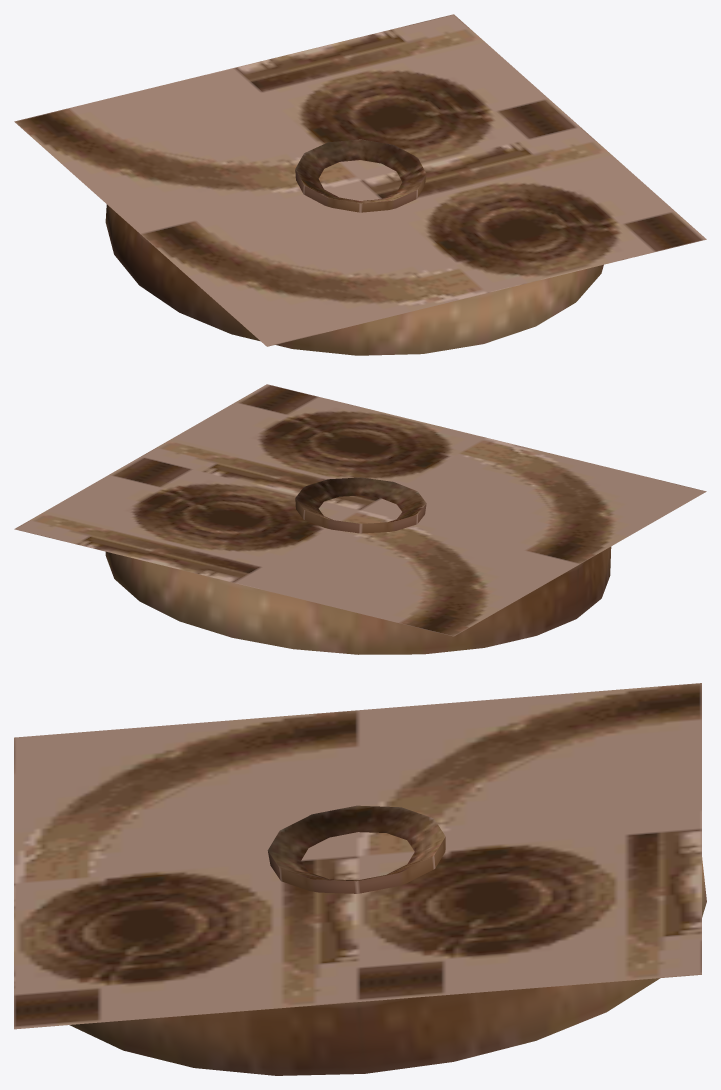
Rendered from int_wst_wagonwheel.dae.
3 views of the same model, one above another, from view 1: azimuth 30°, elevation 25°; view 2: azimuth 150°, elevation 25°; view 3: azimuth 270°, elevation 25° (orthographic). The views are drawn at different scales.
Parts seen in each view (by area): view 1: int_wst_wagonwheel; view 2: int_wst_wagonwheel; view 3: int_wst_wagonwheel.
Boxes of the visible parts, x1=… form: int_wst_wagonwheel: x1=14, y1=14, x2=706, y2=355; int_wst_wagonwheel: x1=14, y1=384, x2=706, y2=654; int_wst_wagonwheel: x1=14, y1=683, x2=706, y2=1075.
Size of the model in its own units: 30.17 by 6.12 by 30.28.
1 material, 1 textured.
